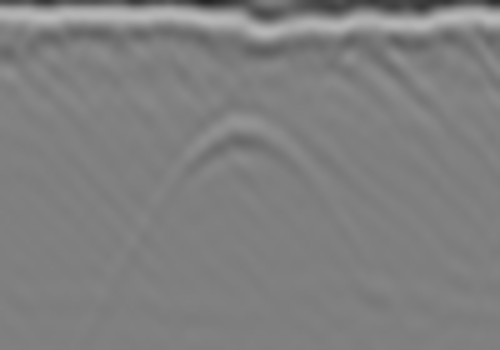hyperbola: (126, 107, 359, 319)
